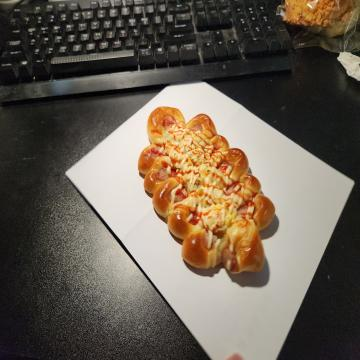pizza_bread: (139, 106, 276, 279)
